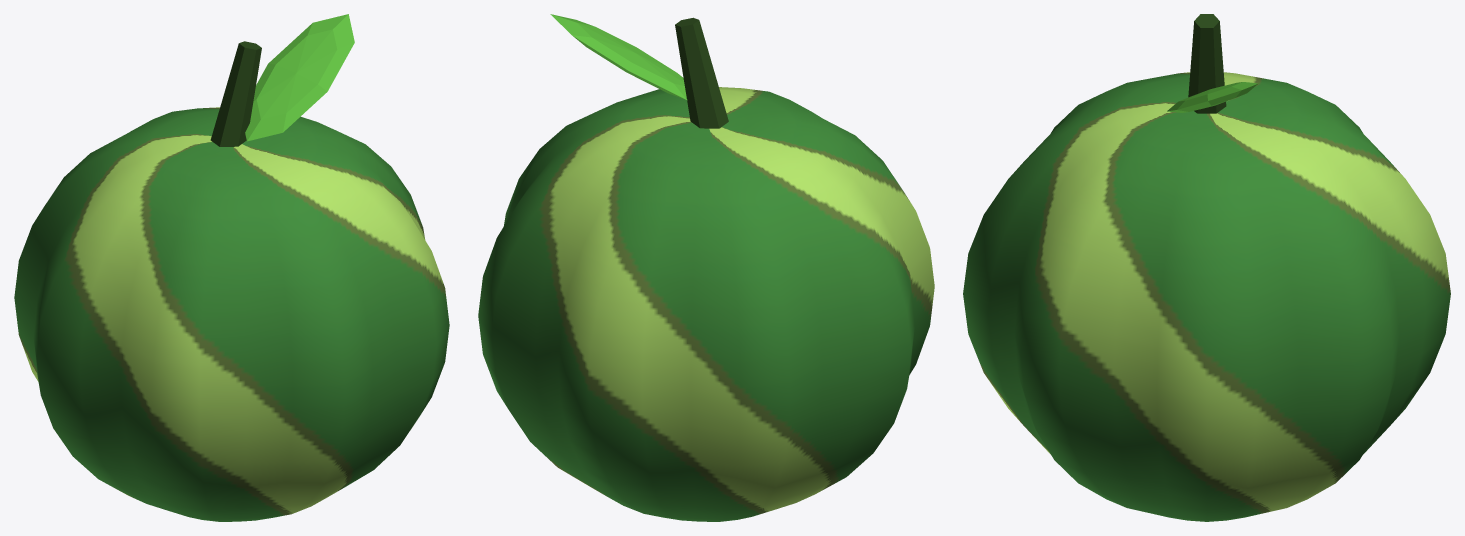
The model's file is Fruit_Thorn.fbx.
3 views of the same model, side by side, from view 1: azimuth 30°, elevation 25°; view 2: azimuth 150°, elevation 25°; view 3: azimuth 270°, elevation 25° (orthographic). The views are drawn at different scales.
Visible parts, largest first — view 1: Fruit_Thorn; view 2: Fruit_Thorn; view 3: Fruit_Thorn.
Part boxes in pixels (x1=…): Fruit_Thorn: x1=14, y1=14, x2=449, y2=521; Fruit_Thorn: x1=478, y1=14, x2=934, y2=521; Fruit_Thorn: x1=963, y1=14, x2=1450, y2=521.
Bounding box in the file's own units: 1.71 × 1.9 × 1.71.
Materials: 1 (1 with a texture image).
